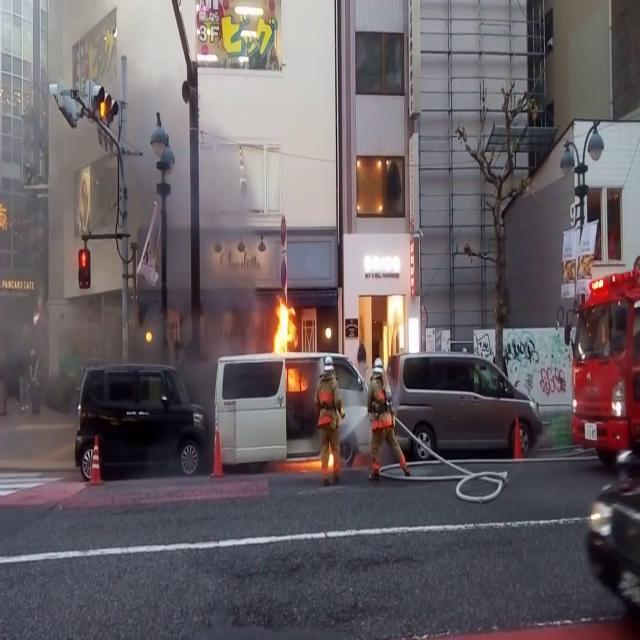Fire: (269, 292, 303, 387)
Smoke: (0, 69, 259, 369)
